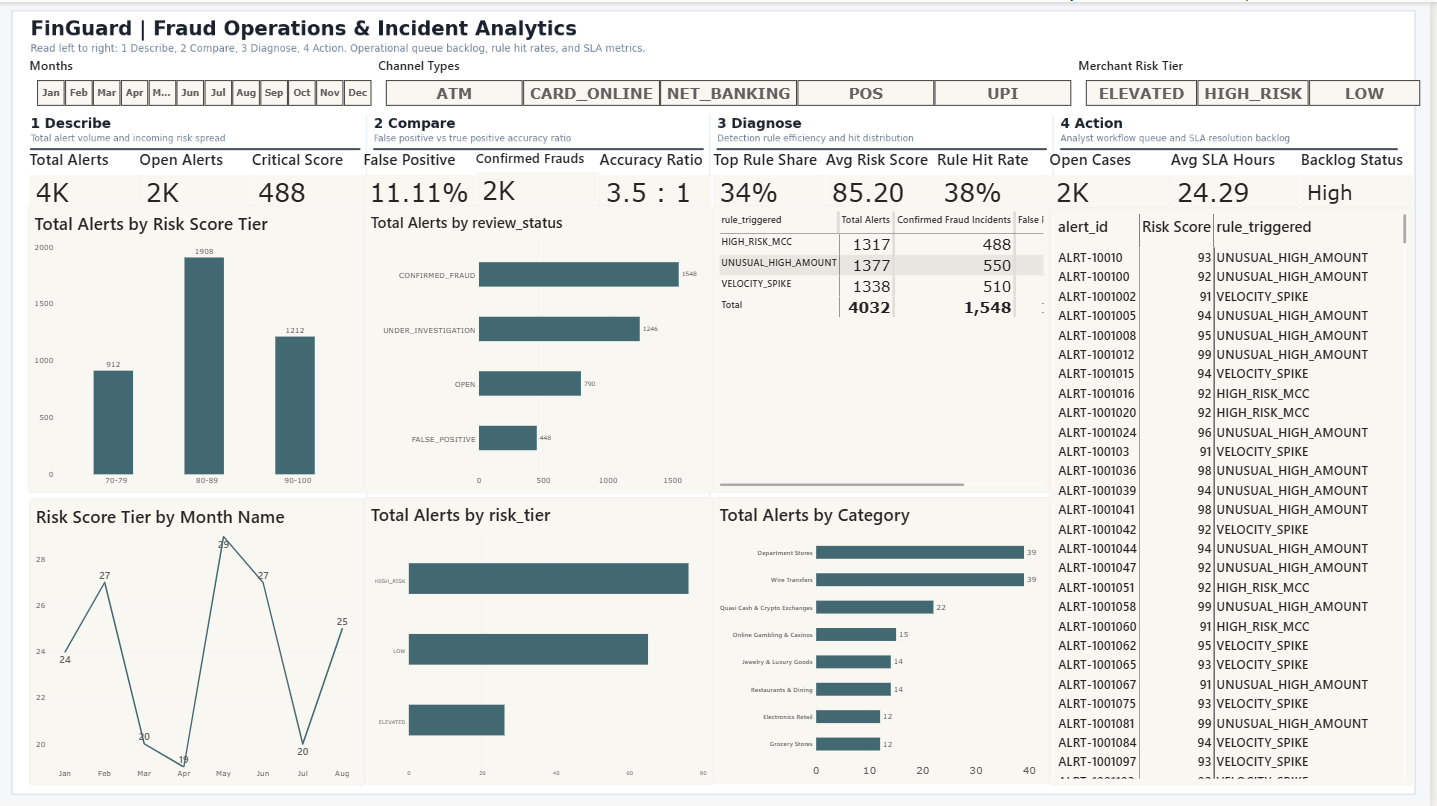

This screenshot's page, from the dashboard's own definition file:
{"tool":"powerbi","page":{"name":"Fraud Operations and Incident Analysis","canvas":[3840,2160],"ordinal":1},"visuals":[{"type":"slicer","title":"Months","fields":{"Values":["dim_date.Month Name"]},"box":[87.2,146.5,934.9,132],"z":0},{"type":"slicer","title":"Channel Types","fields":{"Values":["fact_transactions.channel"]},"box":[1022.1,146.5,1876,132],"z":1000},{"type":"slicer","title":"Merchant Risk Tier","fields":{"Values":["dim_merchants.risk_tier"]},"box":[2898.8,146.5,934.9,132],"z":2000},{"type":"cardVisual","title":"Total Alerts","fields":{"Data":["_Measures.Total Alerts"]},"box":[87.1,391.9,300.7,161.1],"z":3000},{"type":"cardVisual","title":"Open Alerts","fields":{"Data":["_Measures.Open Alerts"]},"box":[381.9,391.9,300.7,161.1],"z":4000},{"type":"cardVisual","title":"Critical Score","fields":{"Data":["_Measures.Critical Score > 90"]},"box":[683.4,391.9,300.7,161.1],"z":5000},{"type":"cardVisual","title":"Accuracy Ratio","fields":{"Data":["_Measures.Accuracy Ratio"]},"box":[1614.6,391.9,300.7,161.1],"z":6000},{"type":"cardVisual","title":"Confirmed Frauds","fields":{"Data":["_Measures.Confirmed Fraud Incidents"]},"box":[1283,391.9,332.9,161.1],"z":7000},{"type":"cardVisual","title":"False Positive ","fields":{"Data":["_Measures.False Positive Rate %"]},"box":[981.5,391.9,300.7,161.1],"z":8000},{"type":"cardVisual","title":"Top Rule Share","fields":{"Data":["_Measures.Top Rule Share %"]},"box":[1919.5,391.9,300.7,161.1],"z":9000},{"type":"cardVisual","title":"Avg Risk Score","fields":{"Data":["_Measures.Avg Risk Score"]},"box":[2221,391.9,300.7,161.1],"z":10000},{"type":"cardVisual","title":"Rule Hit Rate","fields":{"Data":["_Measures.Rule Hit Rate"]},"box":[2519.1,391.9,300.7,161.1],"z":11000},{"type":"cardVisual","title":"Open Cases","fields":{"Data":["_Measures.Open Alerts"]},"box":[2820.6,391.9,325.7,161.1],"z":12000},{"type":"cardVisual","title":"Avg SLA Hours","fields":{"Data":["_Measures.Avg Resolution Hours"]},"box":[3145.5,391.9,347.2,161.1],"z":13000},{"type":"cardVisual","title":"Backlog Status","fields":{"Data":["_Measures.Backlog Status"]},"box":[3493.9,391.9,300.7,161.1],"z":14000},{"type":"clusteredColumnChart","fields":{"Category":["fact_fraud_alerts.Risk Score Tier"],"Y":["_Measures.Total Alerts"]},"box":[82.3,547.7,898.4,769.6],"z":14001},{"type":"lineChart","title":"Risk Score Tier by Month Name","fields":{"Category":["dim_date.Month Name"],"Y":["_Measures.Total Alerts"]},"box":[87.1,1329.9,898,770],"z":14002},{"type":"clusteredBarChart","fields":{"Category":["fact_fraud_alerts.review_status"],"Y":["_Measures.Total Alerts"]},"box":[984.3,547.7,934.2,770],"z":14003},{"type":"clusteredBarChart","fields":{"Category":["dim_merchants.risk_tier"],"Y":["_Measures.Total Alerts"]},"box":[984,1328,934,770],"z":14004},{"type":"pivotTable","fields":{"Rows":["fact_fraud_alerts.rule_triggered"],"Values":["_Measures.Total Alerts","_Measures.Confirmed Fraud Incidents","_Measures.False Positive Rate %"]},"box":[1918.6,547.7,902,769.6],"z":14005},{"type":"clusteredBarChart","fields":{"Category":["dim_merchants.Category"],"Y":["_Measures.Total Alerts"]},"box":[1918.6,1328,902,769.6],"z":14006},{"type":"tableEx","fields":{"Values":["fact_fraud_alerts.alert_id","fact_fraud_alerts.risk_score","fact_fraud_alerts.rule_triggered"]},"box":[2820.6,551.2,973.6,1546.3],"z":14007}]}

Visuals, with their boxes in screenshot pixels (x1, y1, x2, y2), scaled from the page's 3840x2160 canvas onto the 1437x806 screenshot:
"Months" slicer: detection(33, 55, 382, 104)
"Channel Types" slicer: detection(382, 55, 1085, 104)
"Merchant Risk Tier" slicer: detection(1085, 55, 1435, 104)
"Total Alerts" cardVisual: detection(33, 146, 145, 206)
"Open Alerts" cardVisual: detection(143, 146, 255, 206)
"Critical Score" cardVisual: detection(256, 146, 368, 206)
"Accuracy Ratio" cardVisual: detection(604, 146, 717, 206)
"Confirmed Frauds" cardVisual: detection(480, 146, 605, 206)
"False Positive " cardVisual: detection(367, 146, 480, 206)
"Top Rule Share" cardVisual: detection(718, 146, 831, 206)
"Avg Risk Score" cardVisual: detection(831, 146, 944, 206)
"Rule Hit Rate" cardVisual: detection(943, 146, 1055, 206)
"Open Cases" cardVisual: detection(1056, 146, 1177, 206)
"Avg SLA Hours" cardVisual: detection(1177, 146, 1307, 206)
"Backlog Status" cardVisual: detection(1307, 146, 1420, 206)
clusteredColumnChart - fact_fraud_alerts.Risk Score Tier x _Measures.Total Alerts: detection(31, 204, 367, 492)
"Risk Score Tier by Month Name" lineChart: detection(33, 496, 369, 784)
clusteredBarChart - fact_fraud_alerts.review_status x _Measures.Total Alerts: detection(368, 204, 718, 492)
clusteredBarChart - dim_merchants.risk_tier x _Measures.Total Alerts: detection(368, 496, 718, 783)
pivotTable - fact_fraud_alerts.rule_triggered x _Measures.Total Alerts: detection(718, 204, 1056, 492)
clusteredBarChart - dim_merchants.Category x _Measures.Total Alerts: detection(718, 496, 1056, 783)
tableEx - fact_fraud_alerts.alert_id x fact_fraud_alerts.risk_score: detection(1056, 206, 1420, 783)
